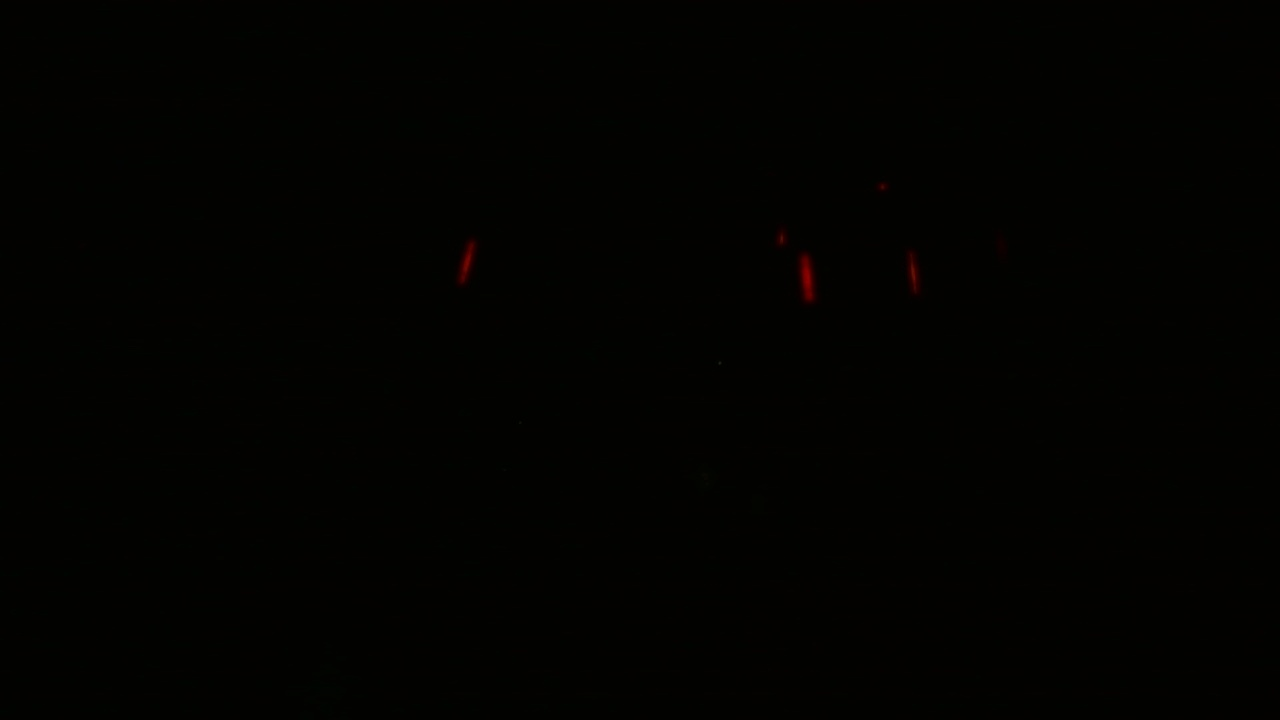pair1: (794, 248, 922, 301)
